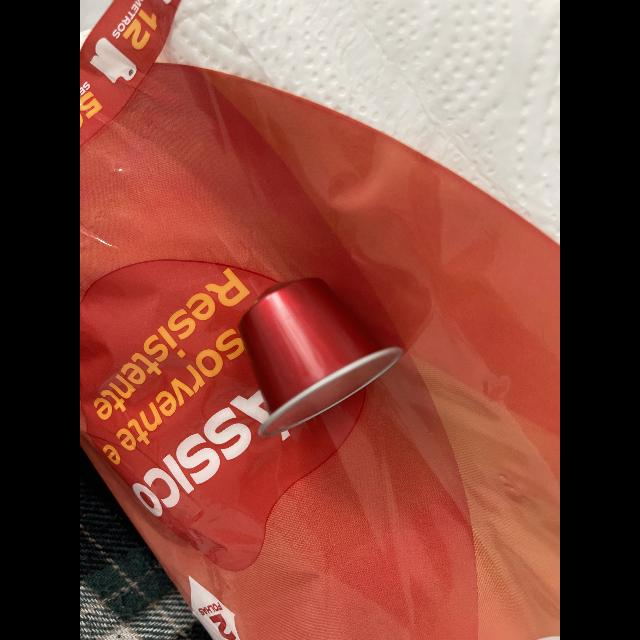intact_capsule: (226, 266, 426, 447)
